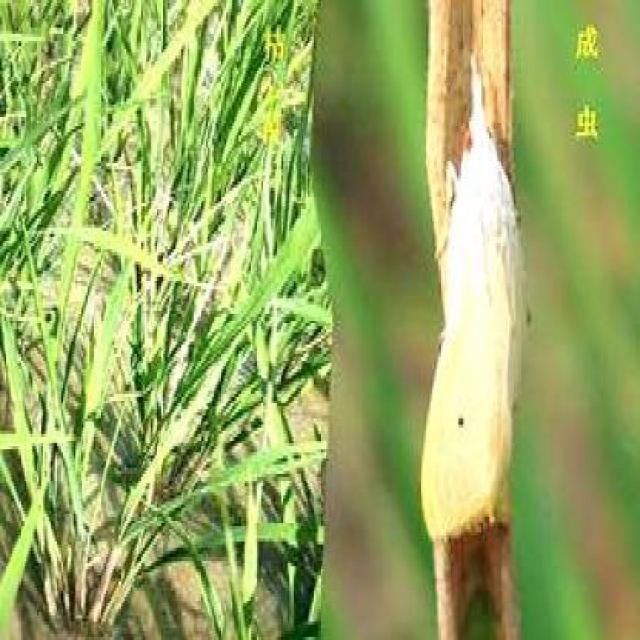stem-borer: (417, 51, 529, 547)
